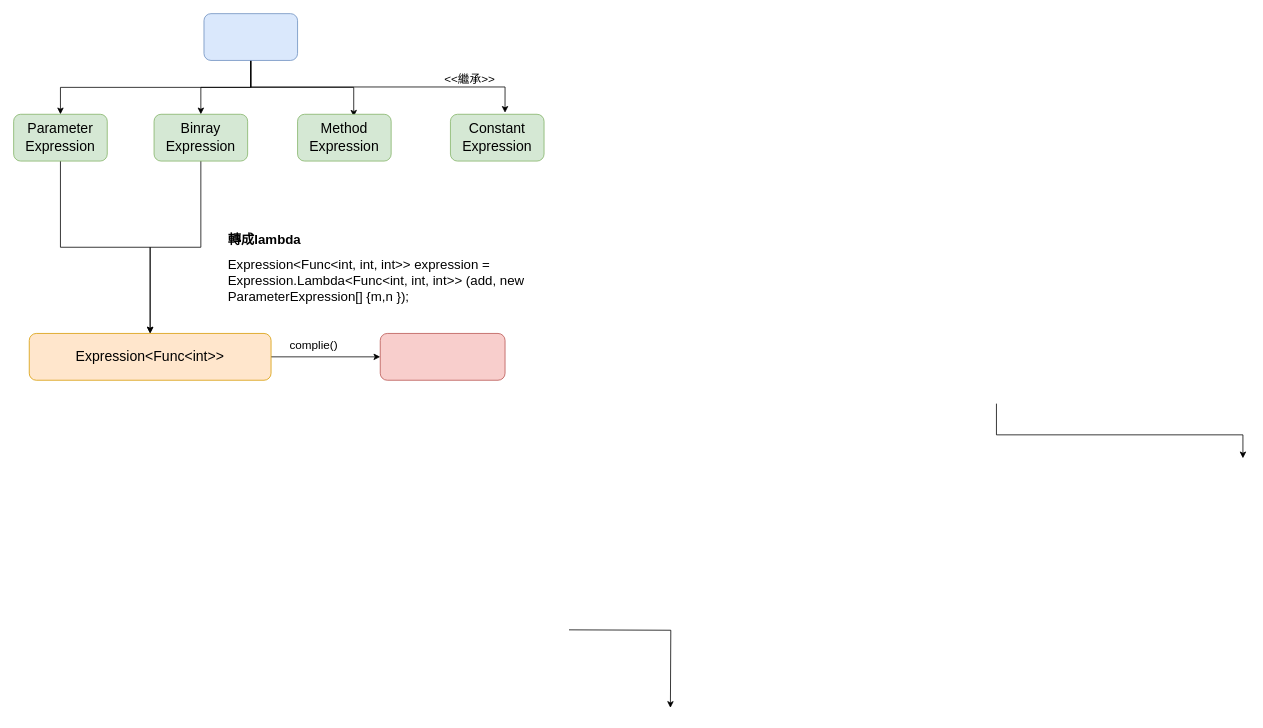
This 1263x728 diagram has some shape labels left out. The centre of each missing label's shape, as x and y in pixels:
"Expression" goes at point 250,36.
"Func<int>" goes at point 442,356.
